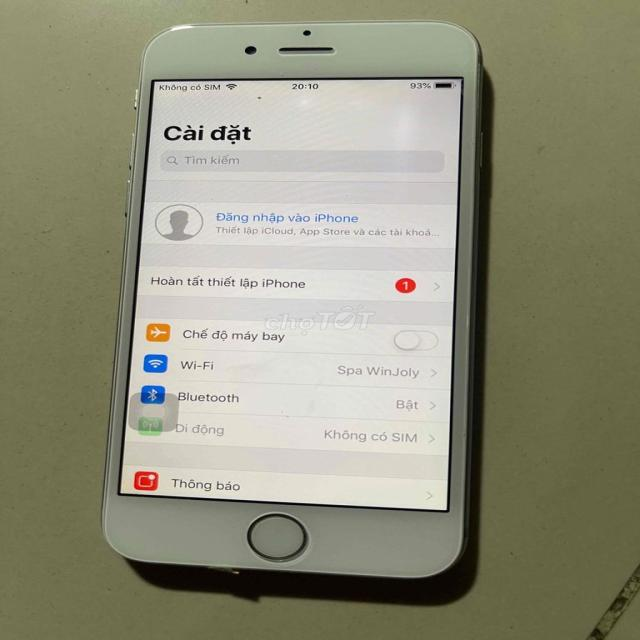gen_6: (99, 14, 506, 600)
